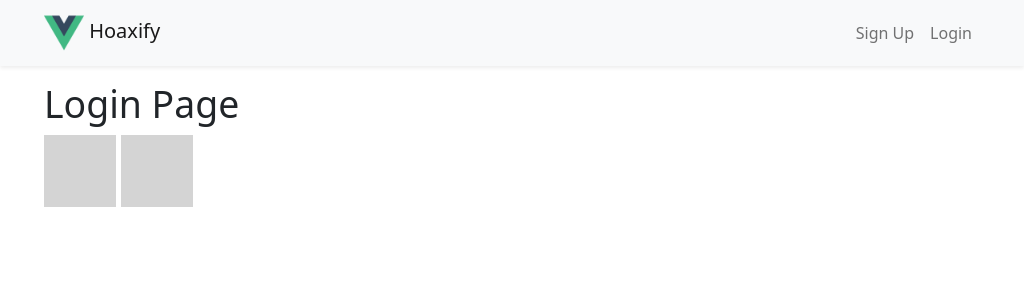
Test: Routing › displays home page when clicking brand logo
Click the picture with alt text "Vue Logo" at (64, 33), box [44,13,84,53]
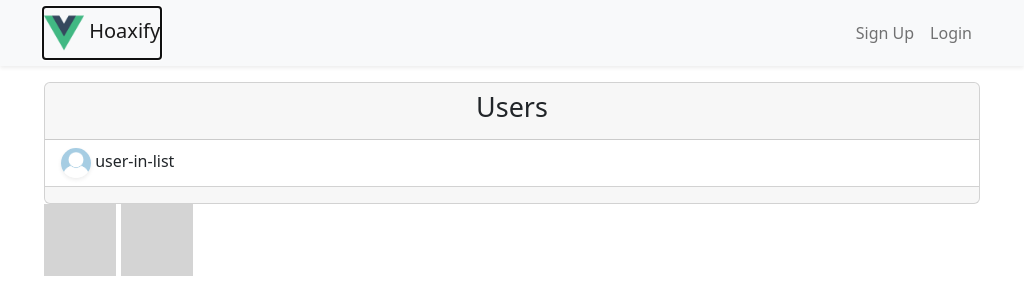
Now the element with test id "home-page" is shown, box [44,82,980,204]
